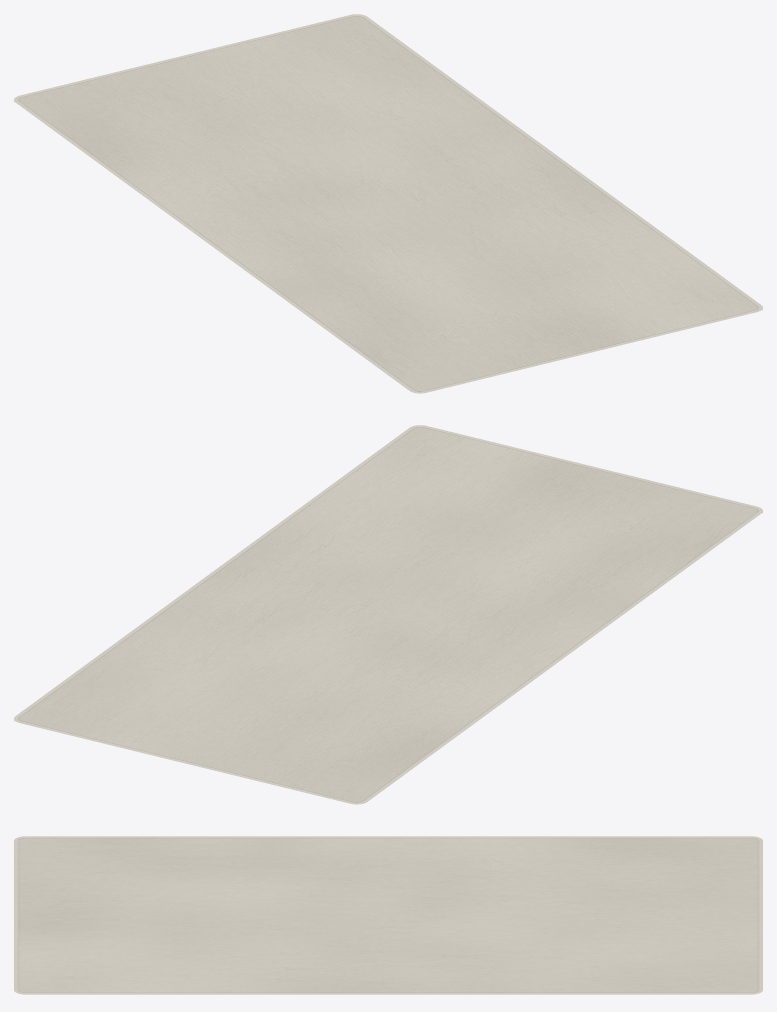
The model's file is ivory_module.glb.
3 renders of one model, top to bottom at view 1: azimuth 30°, elevation 25°; view 2: azimuth 150°, elevation 25°; view 3: azimuth 270°, elevation 25°, orthographic. The views are drawn at different scales.
Visible parts, largest first — view 1: reliv_ivory_module; view 2: reliv_ivory_module; view 3: reliv_ivory_module.
Part boxes in pixels (box(x1,y1,x2,y2)): reliv_ivory_module: box(14, 14, 762, 393); reliv_ivory_module: box(14, 425, 762, 804); reliv_ivory_module: box(14, 836, 762, 994).
Bounding box in the file's own units: 1 × 0.009 × 2.
2 materials, 1 textured.
